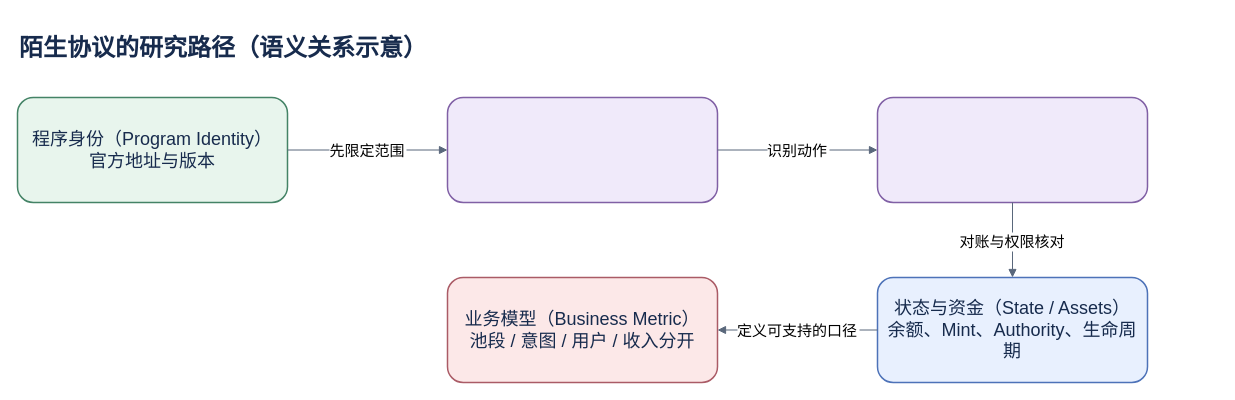
Some shapes in this 1235 by 400 pixel diagram are drawn without their labels. Here are the shapes that lost their labels. From the top down, the centre of each, then its label:
the point at 582,149: 调用样本（Call Sample） tx_id / outer / inner / success
the point at 1012,149: 接口解码（IDL Decoding） 核对动作、参数与账户角色
